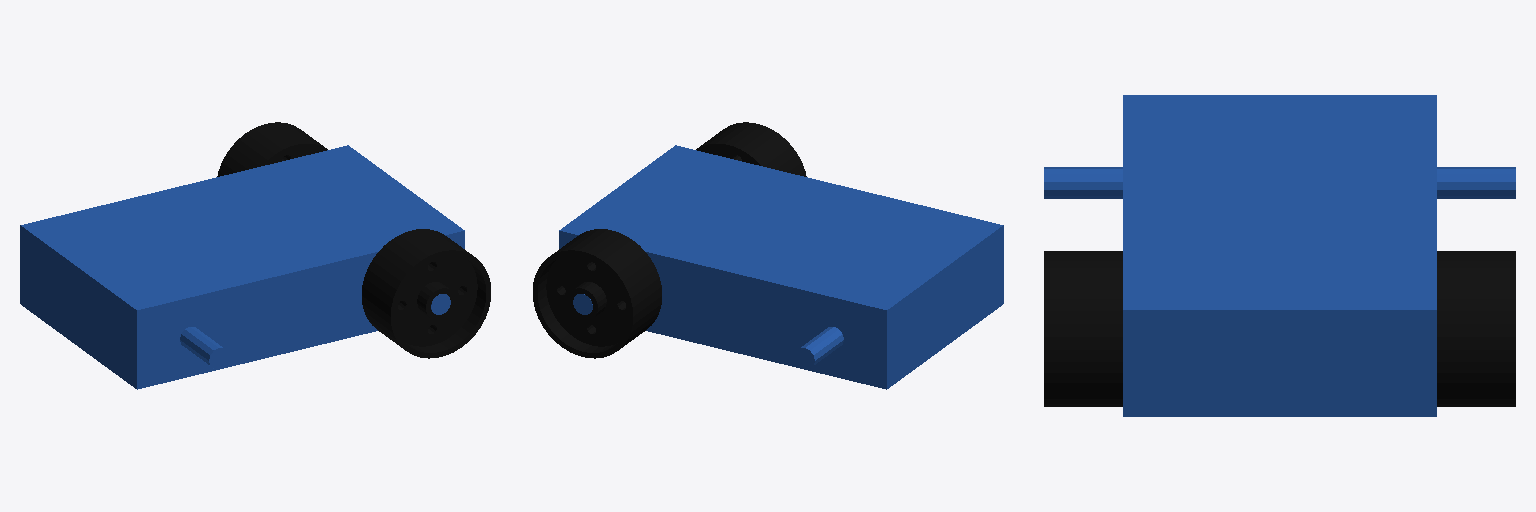
robot.urdf — mobile_robot:
<?xml version="1.0" encoding="utf-8"?>
<!-- This URDF was automatically created by SolidWorks to URDF Exporter! Originally created by [author] ([email redacted]) 
     Commit Version: 1.6.0-1-g15f4949  Build Version: 1.6.7594.29634
     For more information, please see http://wiki.ros.org/sw_urdf_exporter -->
<robot
  name="mobile_robot">
  <link
    name="base_link">
    <inertial>
      <origin
        xyz="5.1461834209322E-19 -6.99880945246779E-17 0.075"
        rpy="0 0 0" />
      <mass
        value="39.5026548245744" />
      <inertia
        ixx="0.625010071038834"
        ixy="-4.2351647362715E-18"
        ixz="9.03501810404593E-19"
        iyy="1.47067902447431"
        iyz="-1.89735380184963E-17"
        izz="1.94933856454823" />
    </inertial>
    <visual>
      <origin
        xyz="0 0 0"
        rpy="0 0 0" />
      <geometry>
        <mesh
          filename="package://mobile_robot/meshes/base_link.STL" />
      </geometry>
      <material
        name="">
        <color
          rgba="0.2 0.4 0.698039215686274 1" />
      </material>
    </visual>
    <collision>
      <origin
        xyz="0 0 0"
        rpy="0 0 0" />
      <geometry>
        <mesh
          filename="package://mobile_robot/meshes/base_link.STL" />
      </geometry>
    </collision>
  </link>
  <link
    name="left_front_wheel">
    <inertial>
      <origin
        xyz="-5.55111512312578E-17 3.05466258908421E-16 -0.05"
        rpy="0 0 0" />
      <mass
        value="1.61804588030487" />
      <inertia
        ixx="0.00545720266758227"
        ixy="-6.19515771104466E-21"
        ixz="-3.98585249964839E-20"
        iyy="0.00545720266758226"
        iyz="5.96954647461969E-22"
        izz="0.00942735130214372" />
    </inertial>
    <visual>
      <origin
        xyz="0 0 0"
        rpy="0 0 0" />
      <geometry>
        <mesh
          filename="package://mobile_robot/meshes/left_front_wheel.STL" />
      </geometry>
      <material
        name="">
        <color
          rgba="0.101960784313725 0.101960784313725 0.101960784313725 1" />
      </material>
    </visual>
    <collision>
      <origin
        xyz="0 0 0"
        rpy="0 0 0" />
      <geometry>
        <mesh
          filename="package://mobile_robot/meshes/left_front_wheel.STL" />
      </geometry>
    </collision>
  </link>
  <joint
    name="left_front_wheel"
    type="continuous">
    <origin
      xyz="0.22 0.2 0.075"
      rpy="1.5708 0 0" />
    <parent
      link="base_link" />
    <child
      link="left_front_wheel" />
    <axis
      xyz="0 0 1" />
  </joint>
  <link
    name="right_front_wheel">
    <inertial>
      <origin
        xyz="-5.55111512312578E-17 3.05486517463319E-16 0.05"
        rpy="0 0 0" />
      <mass
        value="1.61804588030487" />
      <inertia
        ixx="0.00545720266758226"
        ixy="-6.19515771104473E-21"
        ixz="-6.94280260802997E-21"
        iyy="0.00545720266758226"
        iyz="1.00646279923456E-22"
        izz="0.00942735130214372" />
    </inertial>
    <visual>
      <origin
        xyz="0 0 0"
        rpy="0 0 0" />
      <geometry>
        <mesh
          filename="package://mobile_robot/meshes/right_front_wheel.STL" />
      </geometry>
      <material
        name="">
        <color
          rgba="0.101960784313725 0.101960784313725 0.101960784313725 1" />
      </material>
    </visual>
    <collision>
      <origin
        xyz="0 0 0"
        rpy="0 0 0" />
      <geometry>
        <mesh
          filename="package://mobile_robot/meshes/right_front_wheel.STL" />
      </geometry>
    </collision>
  </link>
  <joint
    name="right_front_wheel"
    type="continuous">
    <origin
      xyz="0.22 -0.2 0.075"
      rpy="1.5708 0 0" />
    <parent
      link="base_link" />
    <child
      link="right_front_wheel" />
    <axis
      xyz="0 0 1" />
  </joint>
  <link
    name="left_rear_wheel">
    <inertial>
      <origin
        xyz="-5.55111512312578E-17 3.05466258908421E-16 -0.05"
        rpy="0 0 0" />
      <mass
        value="1.61804588030487" />
      <inertia
        ixx="0.00545720266758226"
        ixy="-6.1951577110441E-21"
        ixz="-4.01893972415052E-20"
        iyy="0.00545720266758226"
        iyz="5.96954647461631E-22"
        izz="0.00942735130214372" />
    </inertial>
    <visual>
      <origin
        xyz="0 0 0"
        rpy="0 0 0" />
      <geometry>
        <mesh
          filename="package://mobile_robot/meshes/left_rear_wheel.STL" />
      </geometry>
      <material
        name="">
        <color
          rgba="0.101960784313725 0.101960784313725 0.101960784313725 1" />
      </material>
    </visual>
    <collision>
      <origin
        xyz="0 0 0"
        rpy="0 0 0" />
      <geometry>
        <mesh
          filename="package://mobile_robot/meshes/left_rear_wheel.STL" />
      </geometry>
    </collision>
  </link>
  <joint
    name="left_rear_wheel"
    type="continuous">
    <origin
      xyz="-0.22 0.2 0.075"
      rpy="1.5708 0 0" />
    <parent
      link="base_link" />
    <child
      link="left_rear_wheel" />
    <axis
      xyz="0 0 1" />
  </joint>
  <link
    name="right_rear_wheel">
    <inertial>
      <origin
        xyz="-5.55111512312578E-17 3.05498977114899E-16 0.05"
        rpy="0 0 0" />
      <mass
        value="1.61804588030487" />
      <inertia
        ixx="0.00545720266758226"
        ixy="-6.1951577110441E-21"
        ixz="-6.23969908735984E-21"
        iyy="0.00545720266758226"
        iyz="1.00646279923327E-22"
        izz="0.00942735130214372" />
    </inertial>
    <visual>
      <origin
        xyz="0 0 0"
        rpy="0 0 0" />
      <geometry>
        <mesh
          filename="package://mobile_robot/meshes/right_rear_wheel.STL" />
      </geometry>
      <material
        name="">
        <color
          rgba="0.101960784313725 0.101960784313725 0.101960784313725 1" />
      </material>
    </visual>
    <collision>
      <origin
        xyz="0 0 0"
        rpy="0 0 0" />
      <geometry>
        <mesh
          filename="package://mobile_robot/meshes/right_rear_wheel.STL" />
      </geometry>
    </collision>
  </link>
  <joint
    name="right_rear_wheel"
    type="continuous">
    <origin
      xyz="-0.22 -0.2 0.075"
      rpy="1.5708 0 0" />
    <parent
      link="base_link" />
    <child
      link="right_rear_wheel" />
    <axis
      xyz="0 0 1" />
  </joint>

<gazebo>
  <plugin name="skid_steer_drive_controller" filename="libgazebo_ros_skid_steer_drive.so">
    <updateRate>100.0</updateRate>
    <robotNamespace>/</robotNamespace>
    <leftFrontJoint>left_front_wheel</leftFrontJoint>
    <rightFrontJoint>right_front_wheel</rightFrontJoint>
    <leftRearJoint>left_rear_wheel</leftRearJoint>
    <rightRearJoint>right_rear_wheel</rightRearJoint>
    <wheelSeparation>0.5</wheelSeparation>
    <wheelDiameter>0.2</wheelDiameter>
    <robotBaseFrame>base_link</robotBaseFrame>
    <torque>20</torque>
    <topicName>cmd_vel</topicName>
    <broadcastTF>false</broadcastTF>
  </plugin>
</gazebo>

</robot>

--- What the picture shows (computed from the rendered views, not written in the file) ---
3 views of the same robot in one strip: view 1: azimuth 30°, elevation 25°; view 2: azimuth 150°, elevation 25°; view 3: azimuth 270°, elevation 25° (orthographic).
Model mobile_robot with 5 links and 4 joints (4 continuous), rooted at base_link, posed every joint at zero.
Links seen in each view (by area): view 1: base_link, right_front_wheel, left_front_wheel; view 2: base_link, left_front_wheel, right_front_wheel; view 3: base_link, left_front_wheel, right_front_wheel.
Boxes of the visible links, bbox=[...] form: base_link: bbox=[20, 145, 464, 389]; right_front_wheel: bbox=[362, 229, 490, 358]; left_front_wheel: bbox=[217, 122, 327, 176]; base_link: bbox=[559, 145, 1003, 389]; left_front_wheel: bbox=[533, 229, 661, 358]; right_front_wheel: bbox=[696, 122, 806, 176]; base_link: bbox=[1044, 95, 1515, 416]; left_front_wheel: bbox=[1437, 251, 1515, 406]; right_front_wheel: bbox=[1044, 251, 1122, 406].
Size in the robot's own frame: 0.65 by 0.6 by 0.1993 metres.
3 mesh visuals loaded from 5 distinct referenced files (3 binary STL); not drawn: 2 (reference not matched to a file when rendering).